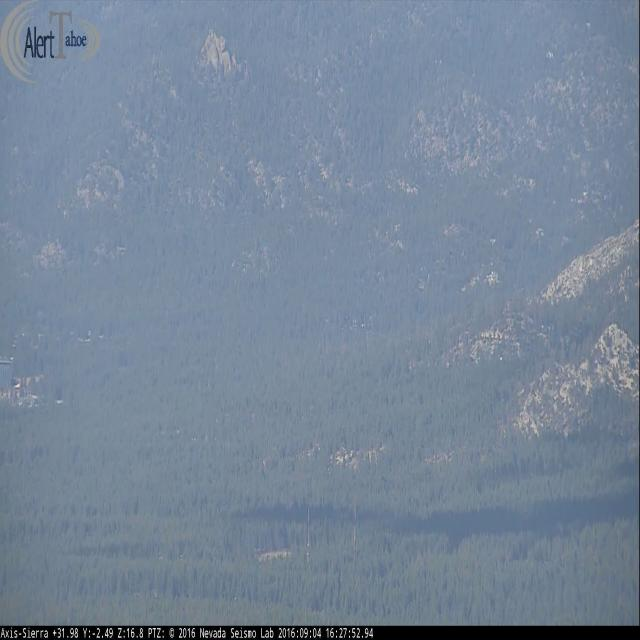smoke: (482, 286, 502, 313)
